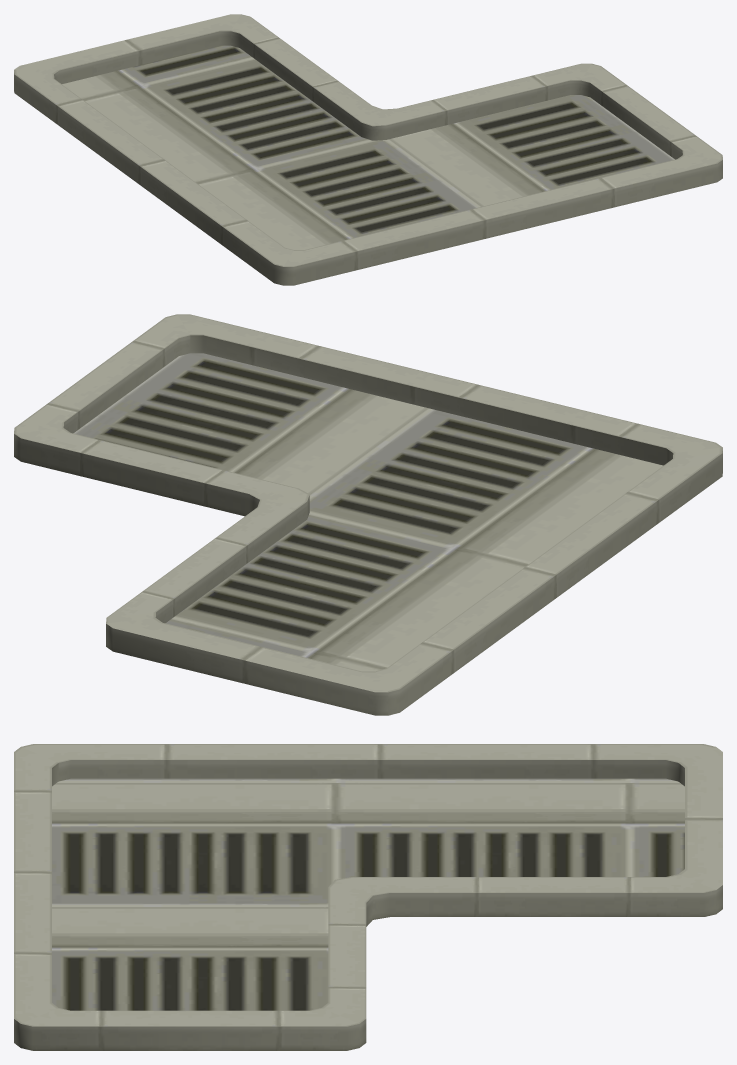
Rendered from 0179_T_ZhenYin_XiaoHuaTan01.glb.
The picture shows the model from 3 angles, top to bottom: view 1: azimuth 30°, elevation 25°; view 2: azimuth 150°, elevation 25°; view 3: azimuth 270°, elevation 25°; orthographic projection. The views are drawn at different scales.
Size of the model in its own units: 2.08 by 0.0828 by 2.2.
1 material, 1 textured.
